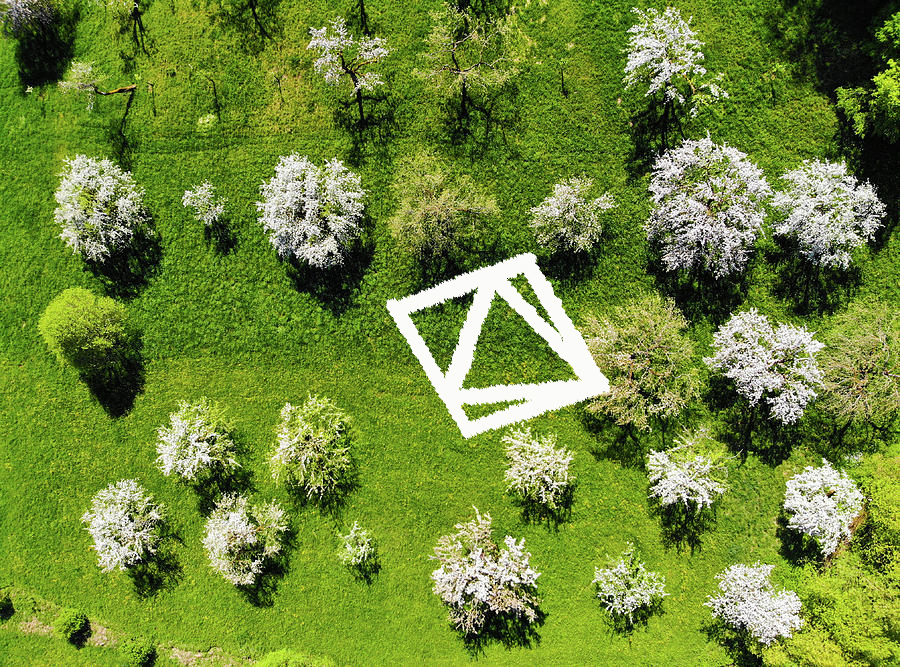marker: (379, 248, 614, 446)
